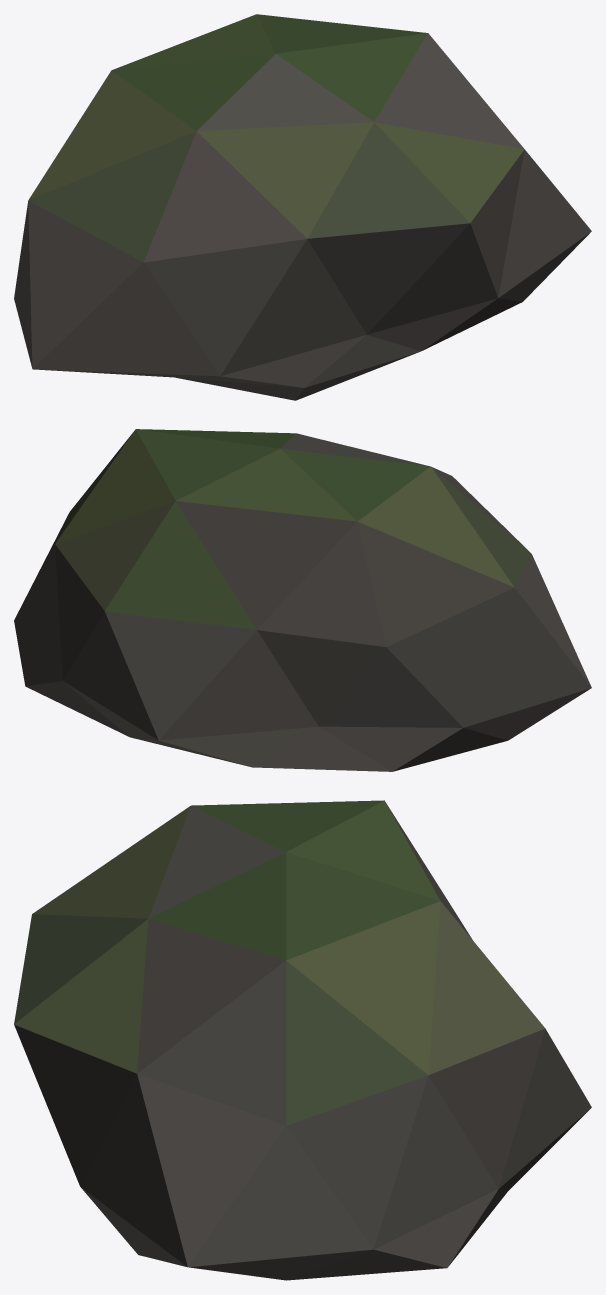
File: env_basalt_a.glb
3 renders of one model, top to bottom at view 1: azimuth 30°, elevation 25°; view 2: azimuth 150°, elevation 25°; view 3: azimuth 270°, elevation 25°, orthographic. The views are drawn at different scales.
Parts seen in each view (by area): view 1: env_basalt_a; view 2: env_basalt_a; view 3: env_basalt_a.
Boxes of the visible parts, bbox=[...] form: env_basalt_a: bbox=[14, 14, 591, 400]; env_basalt_a: bbox=[14, 429, 591, 771]; env_basalt_a: bbox=[14, 800, 591, 1280].
Size of the model in its own units: 3.21 by 1.6 by 2.4.
